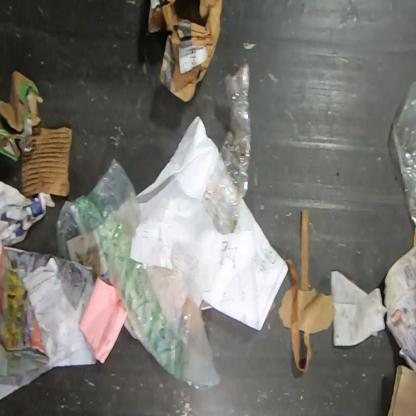cardboard: (147, 0, 224, 104), (0, 69, 45, 163), (20, 126, 73, 199), (297, 288, 334, 334), (387, 366, 415, 415), (277, 286, 293, 329)
soft_plastic: (55, 158, 222, 391), (203, 63, 252, 235), (389, 79, 415, 231)
